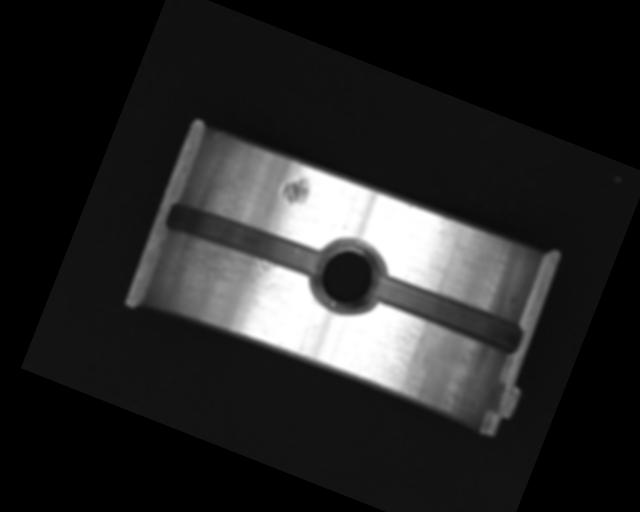bruise: (278, 169, 314, 210)
gap: (162, 193, 328, 288), (369, 270, 527, 356)
hole: (304, 229, 395, 325)
scratch: (156, 227, 314, 348)
